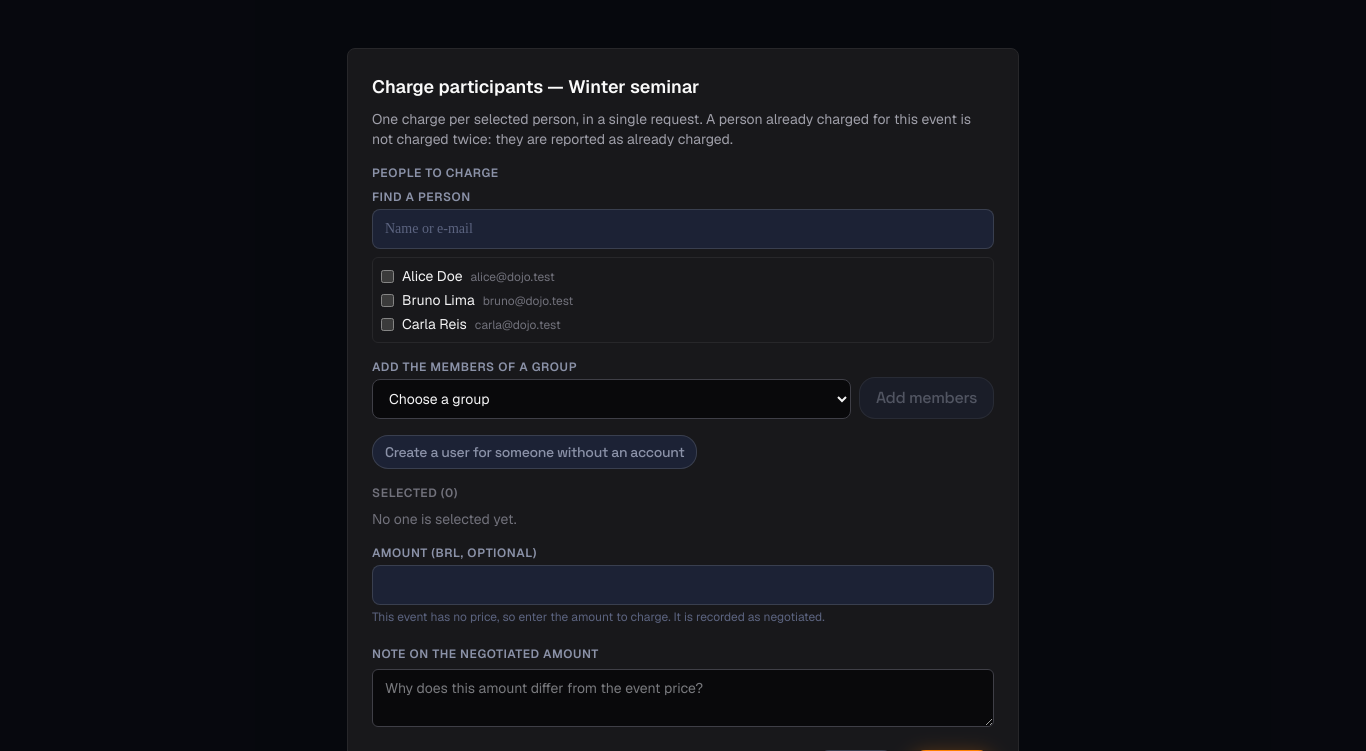
Scenario: ChargeDialog › demands an amount when the event has no price
Click the checkbox labelled "Alice Doe".
click(388, 276)  # box [381, 270, 394, 282]
(page scrolled)
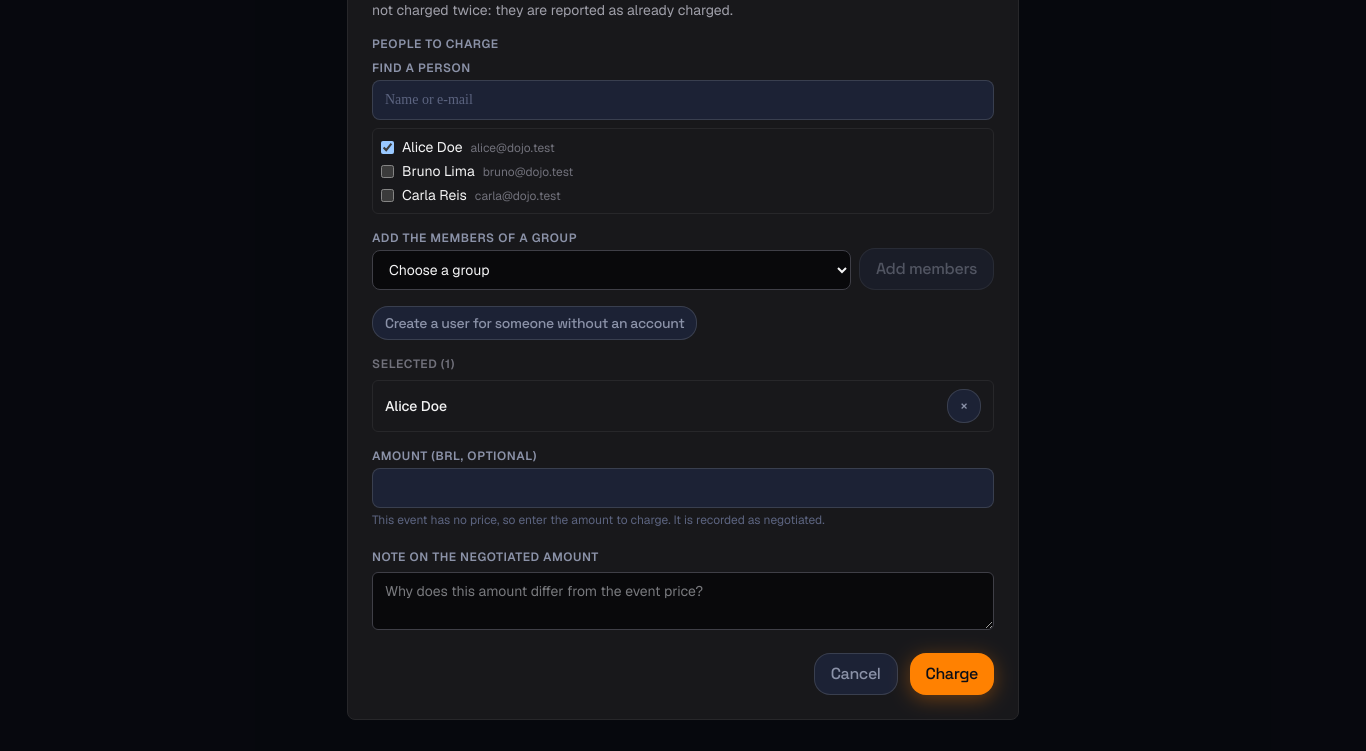
Click the button "Charge".
click(952, 674)  # box [910, 653, 994, 695]
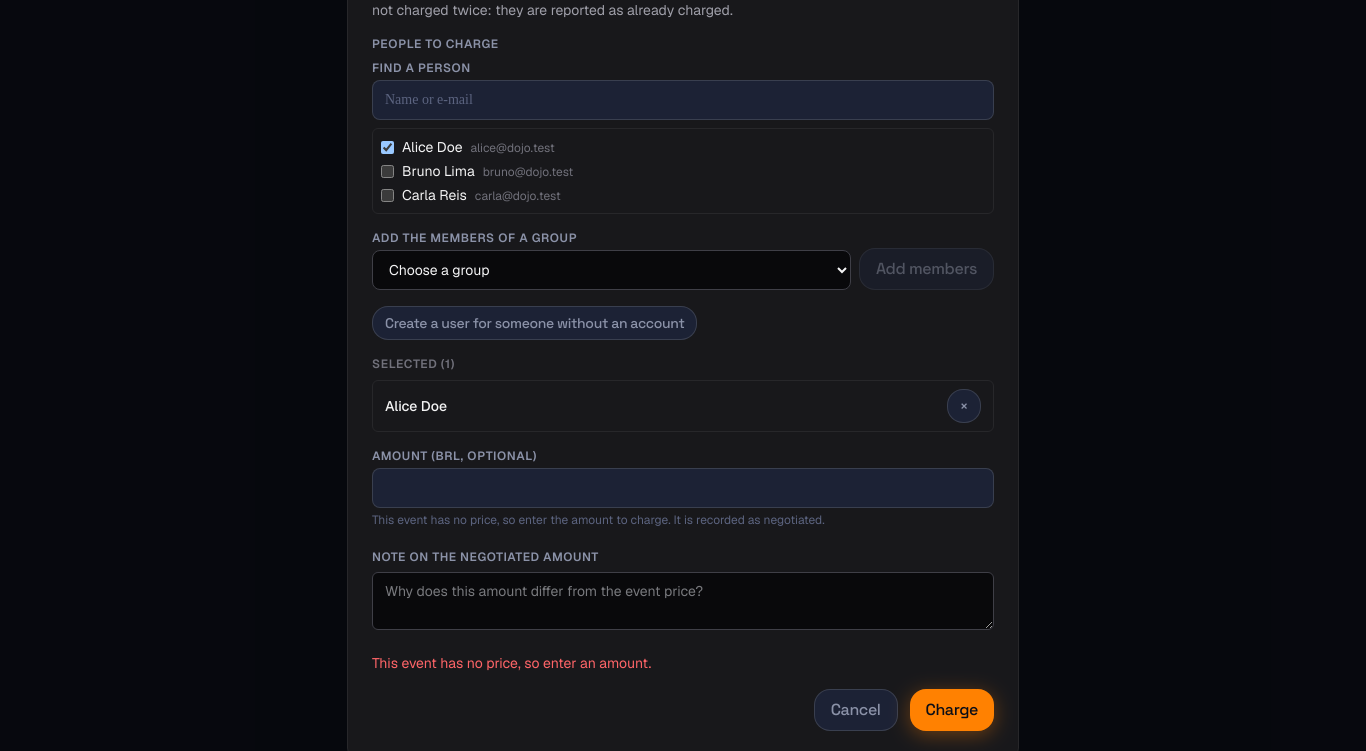
Check: the text "This event has no price, so enter an amount." is shown, box [372, 654, 651, 672]
